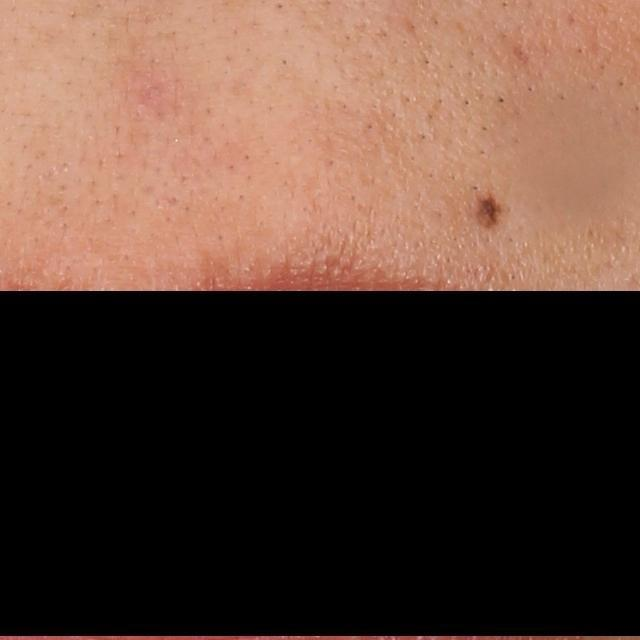nevus: (473, 187, 504, 230)
